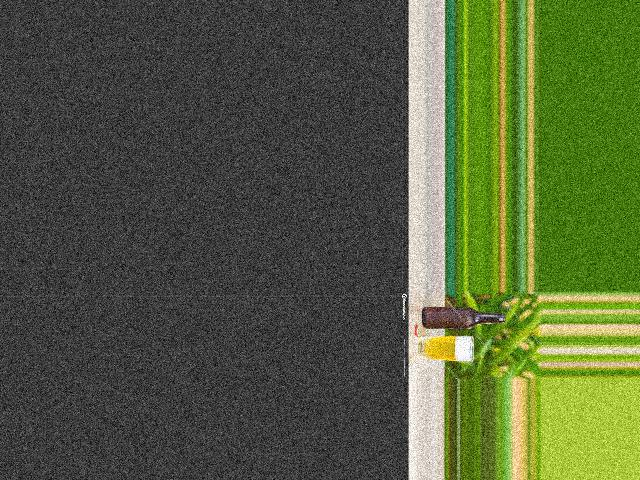beer: (421, 308, 504, 329)
